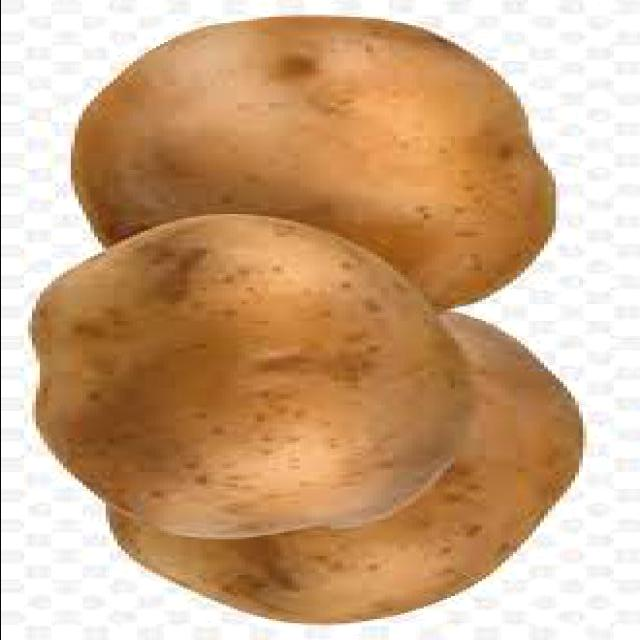potato: (101, 316, 583, 626), (29, 217, 476, 537), (74, 15, 556, 309)
